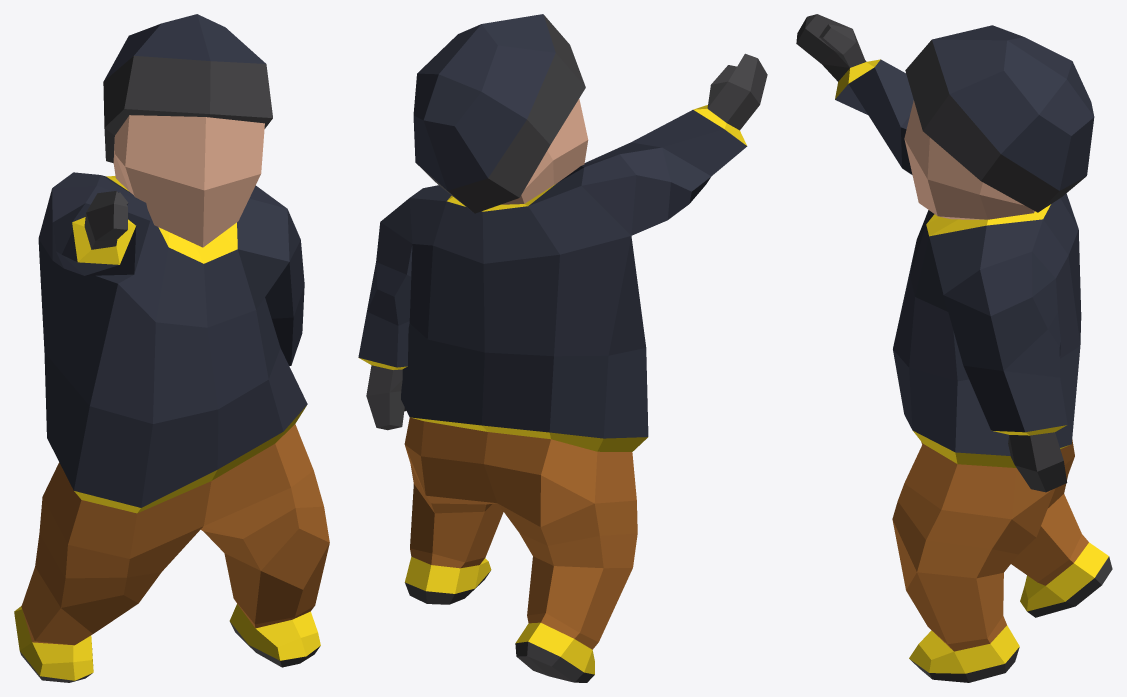
File: AutumnBaby.003.glb
The picture shows the model from 3 angles, left to right: view 1: azimuth 30°, elevation 25°; view 2: azimuth 150°, elevation 25°; view 3: azimuth 270°, elevation 25°; orthographic projection. The views are drawn at different scales.
Parts seen in each view (by area): view 1: AutumnBaby.003; view 2: AutumnBaby.003; view 3: AutumnBaby.003.
Boxes of the visible parts, bbox=[...] form: AutumnBaby.003: bbox=[14, 14, 329, 682]; AutumnBaby.003: bbox=[358, 14, 767, 682]; AutumnBaby.003: bbox=[796, 14, 1112, 682].
Bounding box in the file's own units: 0.3088 × 0.61 × 0.2808.
1 material, 1 textured.
